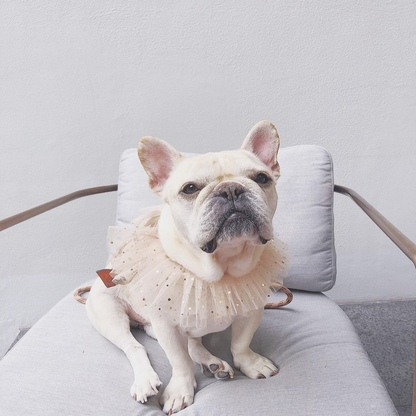bulldog: (82, 118, 284, 416)
